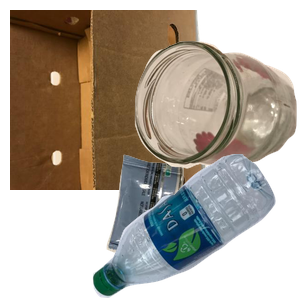cardboard: (10, 10, 211, 190)
glass: (132, 38, 300, 199)
plastic: (90, 154, 300, 300)
trash: (104, 152, 280, 300)
